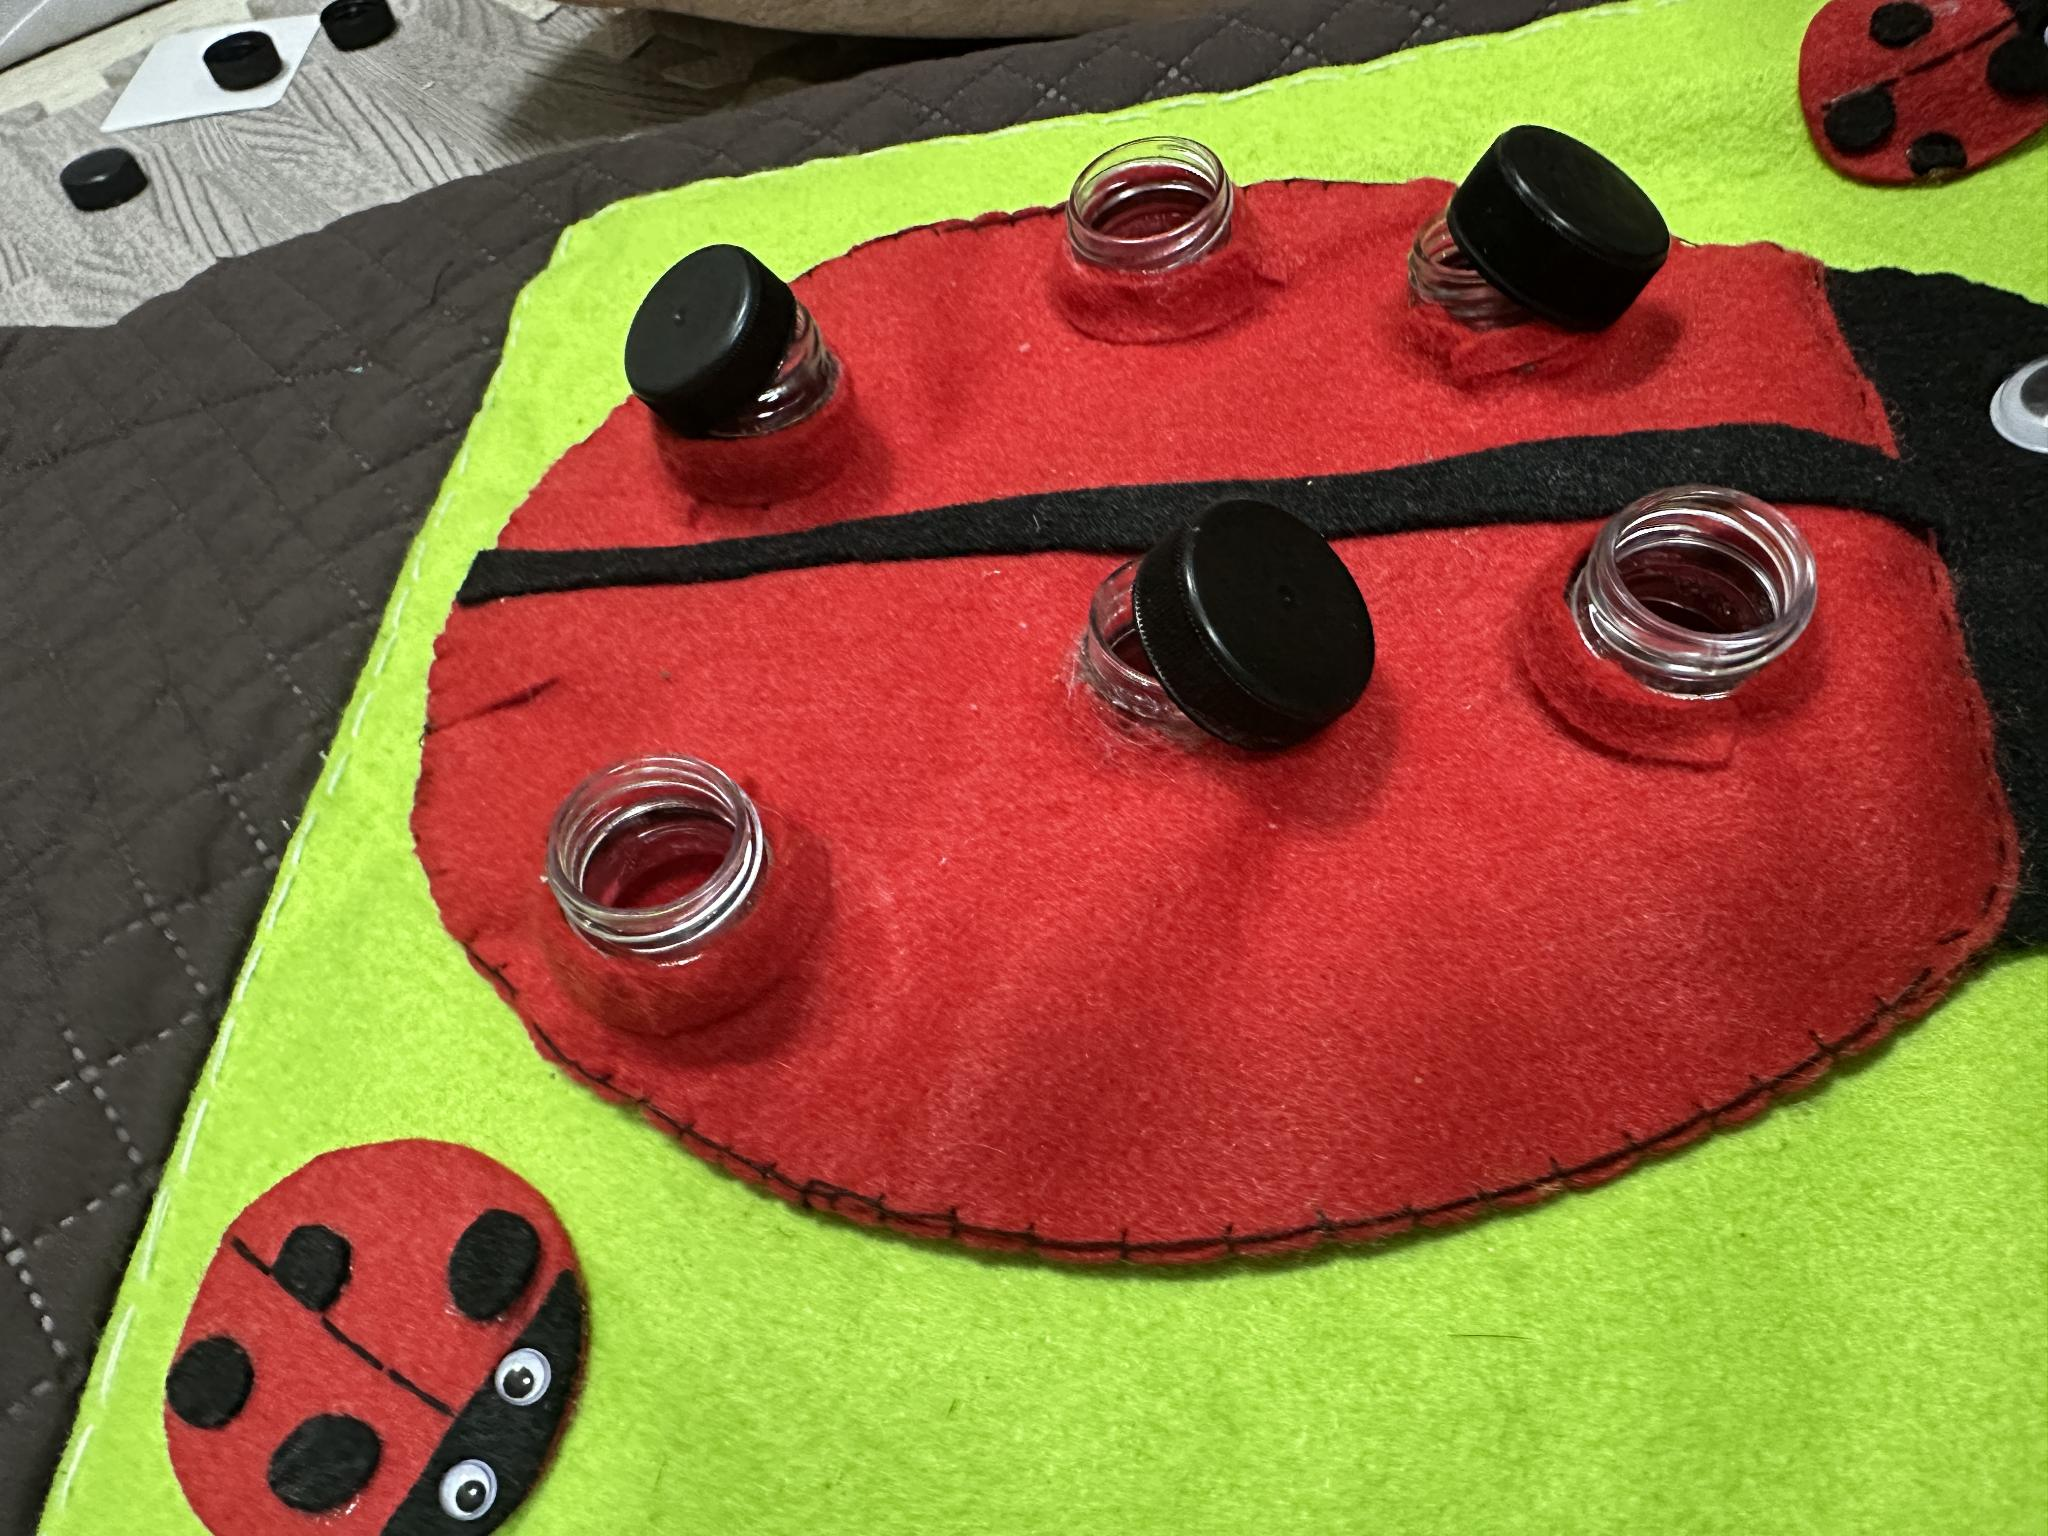cap_ng: (1039, 478, 1385, 792), (597, 229, 885, 518), (1388, 110, 1679, 392)
